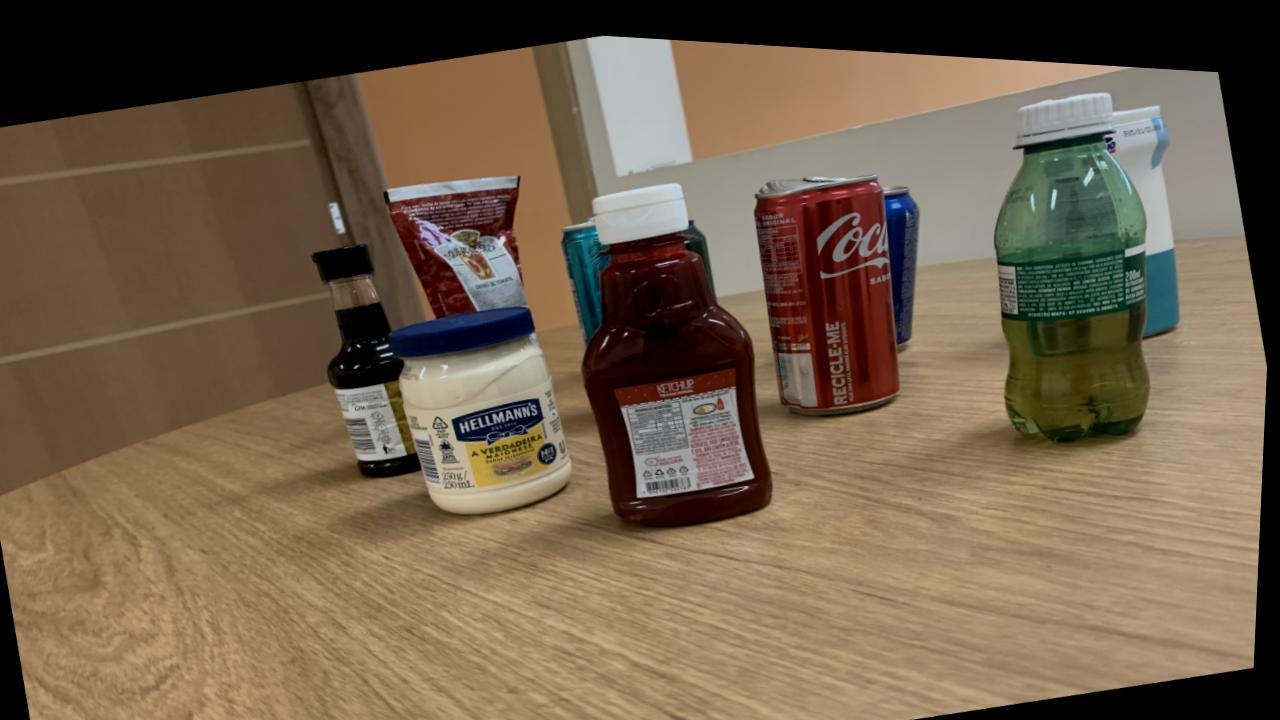Cleaner-Cleanup_Items: (1105, 91, 1183, 321)
Coke-Drinks: (755, 165, 903, 405)
English_Sauce-Pantry_Items: (314, 239, 425, 473)
Guarana-Drinks: (995, 79, 1152, 428)
Guarana_Can-Drinks: (684, 212, 718, 286)
Ketchup-Pantry_Items: (584, 176, 777, 518)
Mayonnaise-Pantry_Items: (391, 299, 575, 508)
Tea-Drinks: (562, 214, 611, 337)
Tomato_Sauce-Pantry_Items: (386, 169, 528, 312)
Tonic-Drinks: (885, 176, 922, 333)
